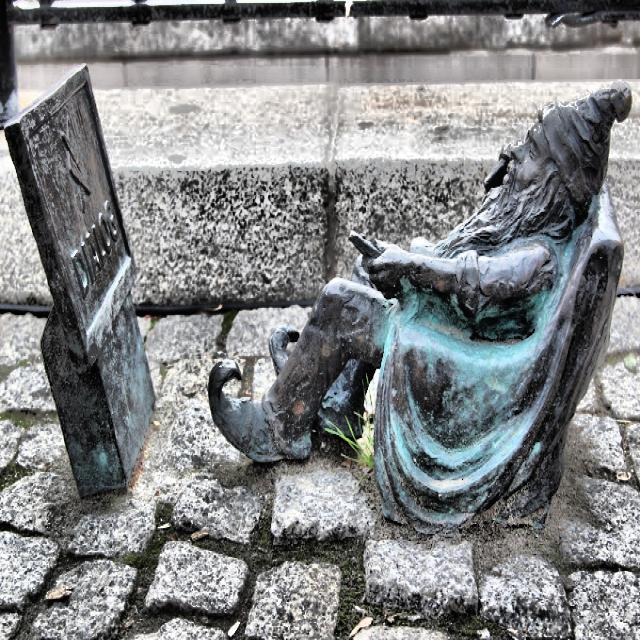Dialogomir: (206, 86, 632, 544), (1, 62, 155, 500)
